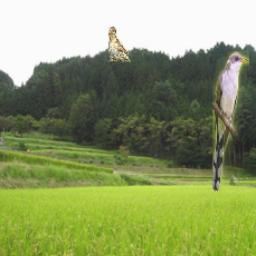Cuckoo: (211, 51, 248, 191)
Sparrow: (107, 27, 131, 62)
